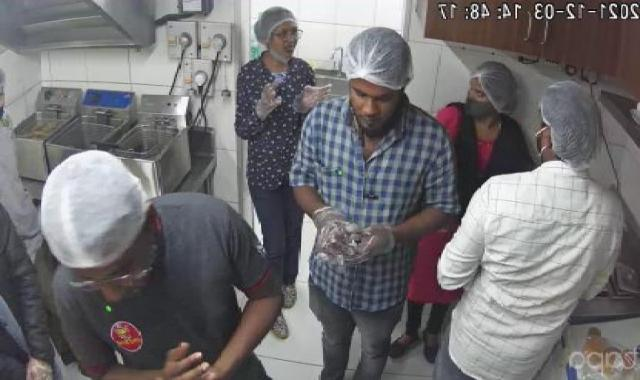hairnet: (25, 147, 162, 274), (531, 74, 616, 175), (338, 24, 413, 94), (462, 52, 522, 116), (247, 4, 304, 55)
